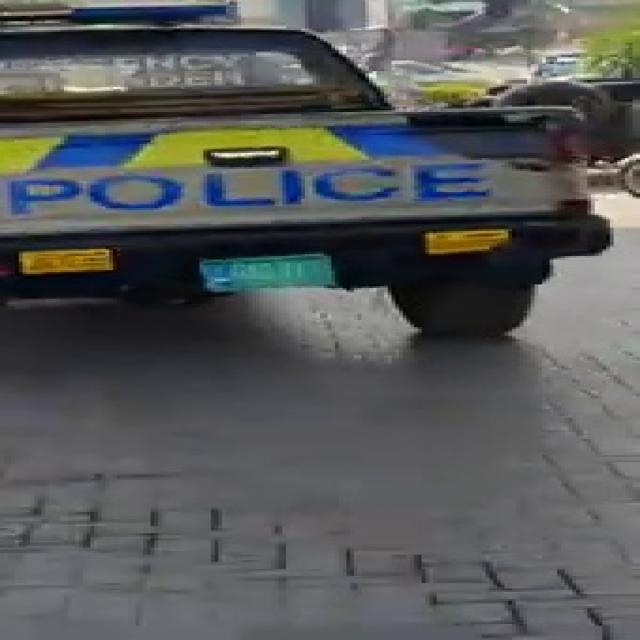police: (0, 15, 550, 336)
